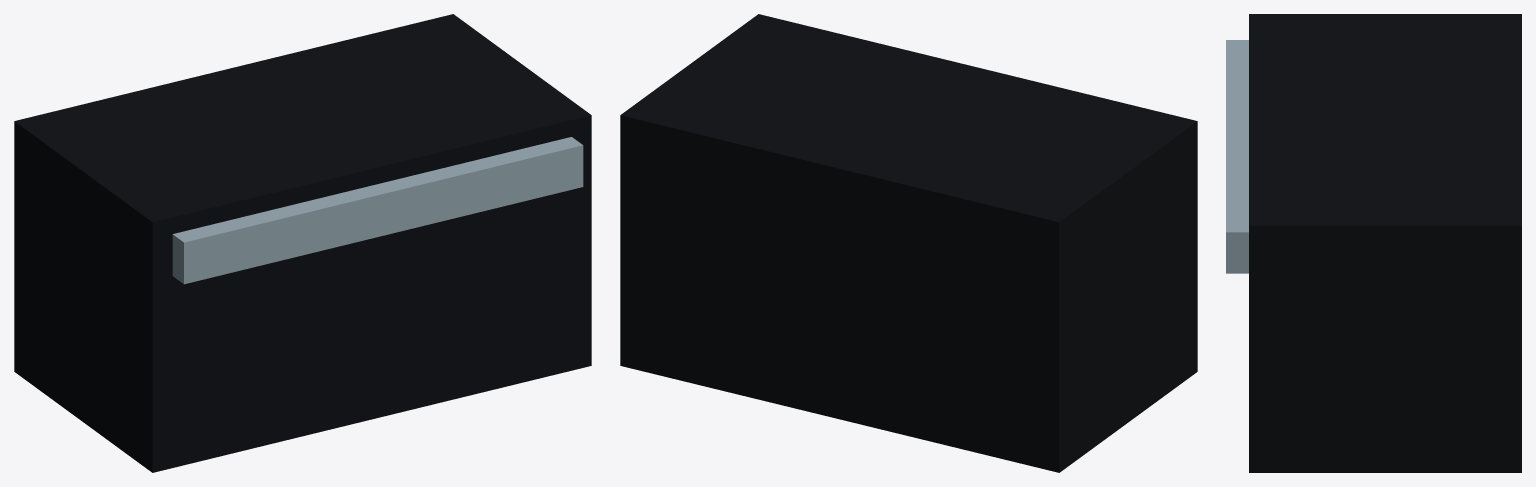
3 renders of one model, left to right at view 1: azimuth 30°, elevation 25°; view 2: azimuth 150°, elevation 25°; view 3: azimuth 270°, elevation 25°, orthographic.
Parts seen in each view (by area): view 1: Connector_Shell, Connector_Metal_Rim; view 2: Connector_Shell; view 3: Connector_Shell, Connector_Metal_Rim.
Part boxes in pixels (x1,y1,x2,y2): Connector_Shell: (14,14,591,472); Connector_Metal_Rim: (172,137,583,284); Connector_Shell: (620,14,1197,472); Connector_Shell: (1249,14,1521,472); Connector_Metal_Rim: (1226,40,1248,273).
Size of the model in its own units: 1.1 by 0.62 by 0.65.
